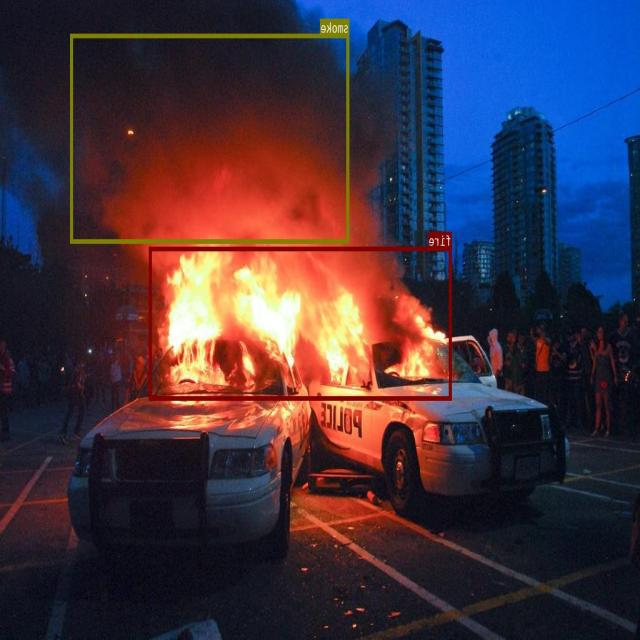fire: (150, 247, 452, 399)
smoke: (70, 33, 350, 243)
